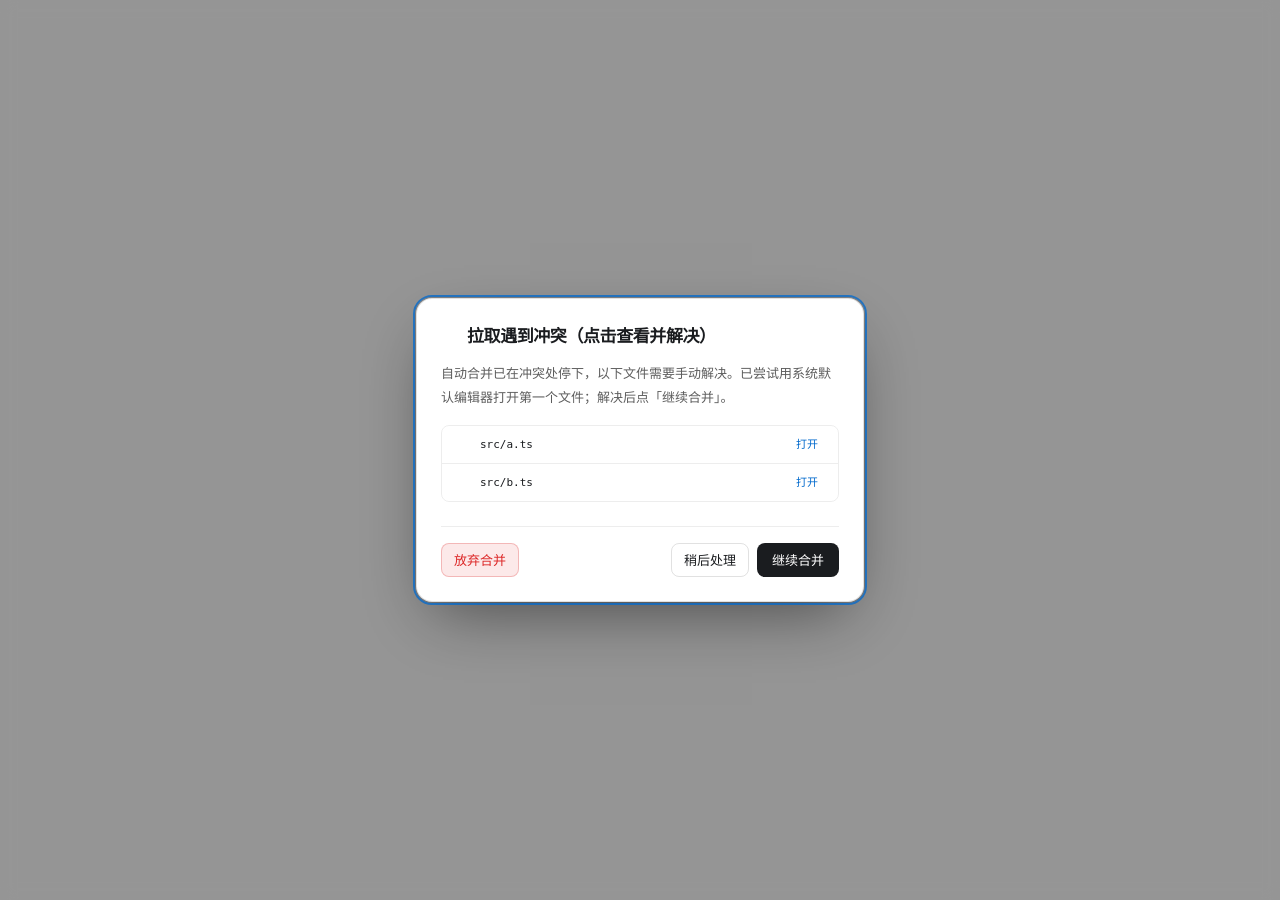
Test: 拉取冲突清单 › 继续合并失败：错误显示在浮层里，不关闭
What coordinates should you click on to do the following:
click the button "继续合并"
I would click on:
 (798, 560)
Its box is x1=757 y1=543 x2=839 y2=577.
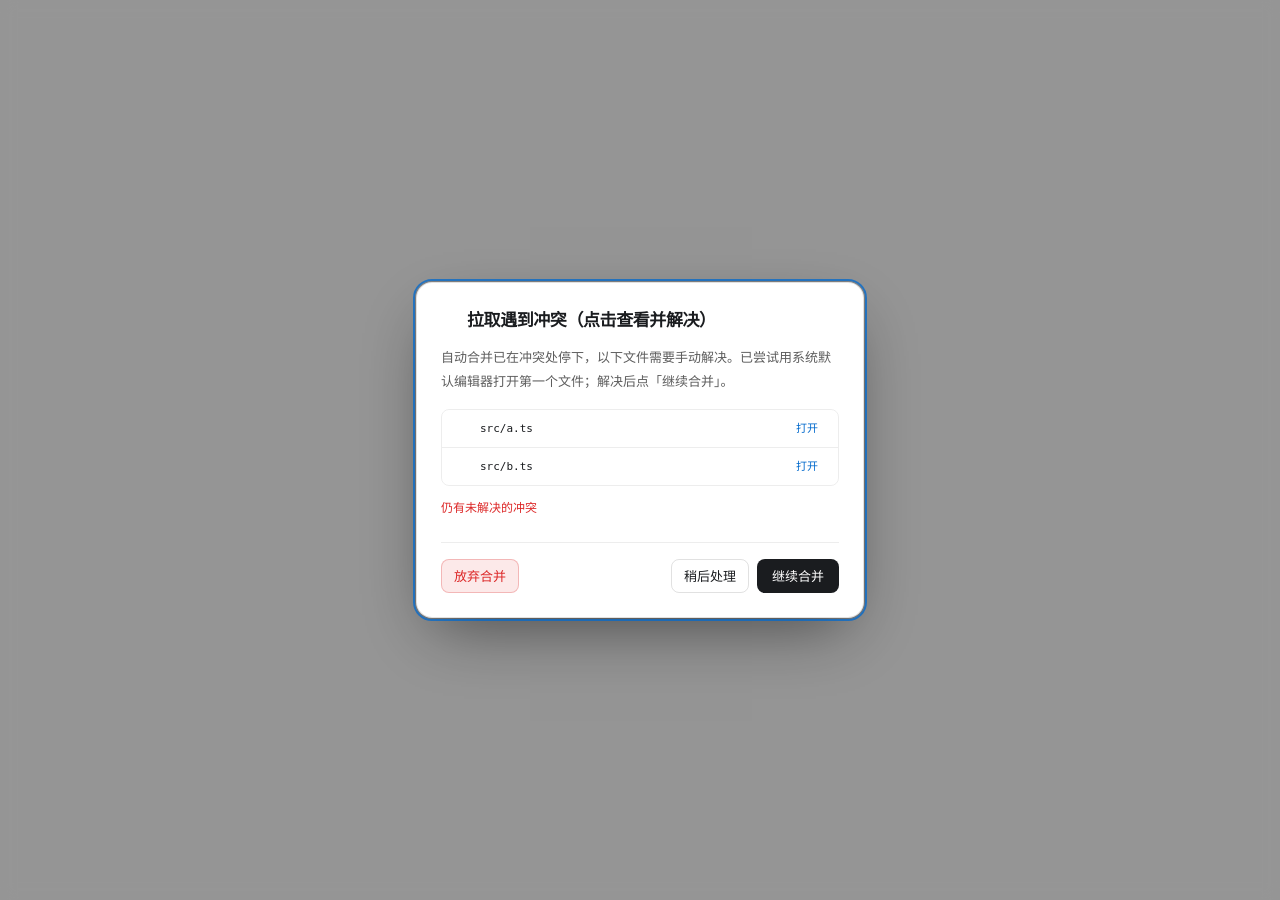
Expected: the text "仍有未解决的冲突" is shown, x1=441 y1=500 x2=537 y2=515
